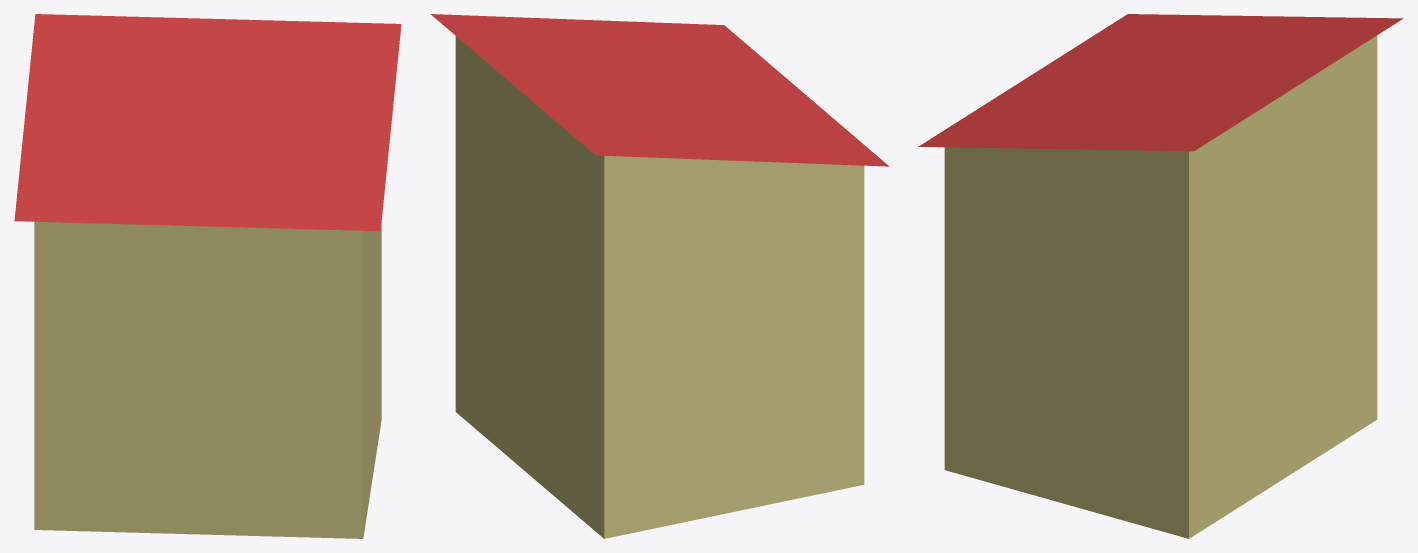
The picture shows the model from 3 angles, left to right: view 1: azimuth 30°, elevation 25°; view 2: azimuth 150°, elevation 25°; view 3: azimuth 270°, elevation 25°; orthographic projection. The views are drawn at different scales.
Bounding box in the file's own units: 6.5 × 6.33 × 5.74.
